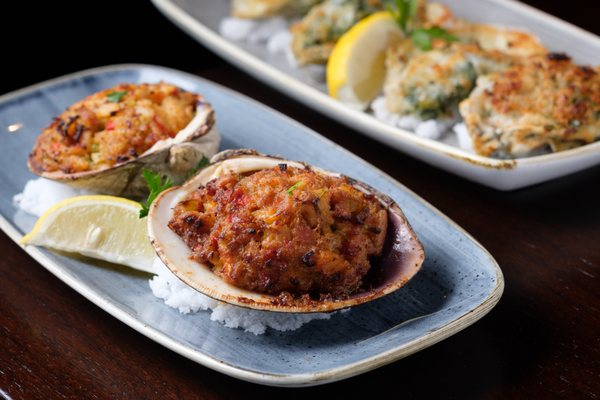sushi: (146, 150, 428, 314)
